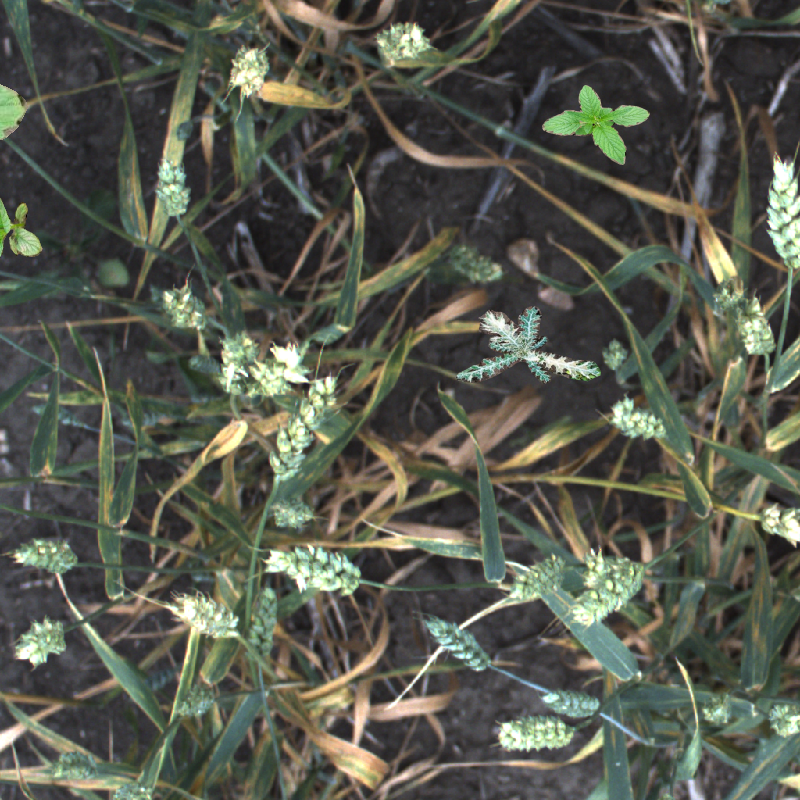spikelet: (258, 368, 353, 490), (710, 273, 785, 367), (569, 550, 646, 631), (492, 546, 573, 616), (416, 613, 498, 680), (263, 539, 359, 596), (763, 152, 800, 276), (153, 270, 216, 340), (252, 328, 310, 402), (170, 587, 242, 646), (6, 614, 71, 671), (494, 712, 577, 755), (158, 677, 227, 726), (442, 233, 502, 289), (372, 17, 435, 67), (35, 744, 109, 786), (607, 394, 667, 443), (245, 578, 280, 659), (753, 492, 800, 552), (228, 34, 268, 104), (12, 535, 79, 576), (215, 330, 257, 395), (152, 153, 192, 220), (764, 689, 800, 749), (694, 687, 742, 732), (540, 688, 600, 720), (271, 495, 325, 528), (184, 350, 225, 378), (603, 339, 632, 372), (109, 778, 152, 799)
weed: (456, 306, 601, 384), (542, 85, 650, 165), (1, 197, 43, 259)
